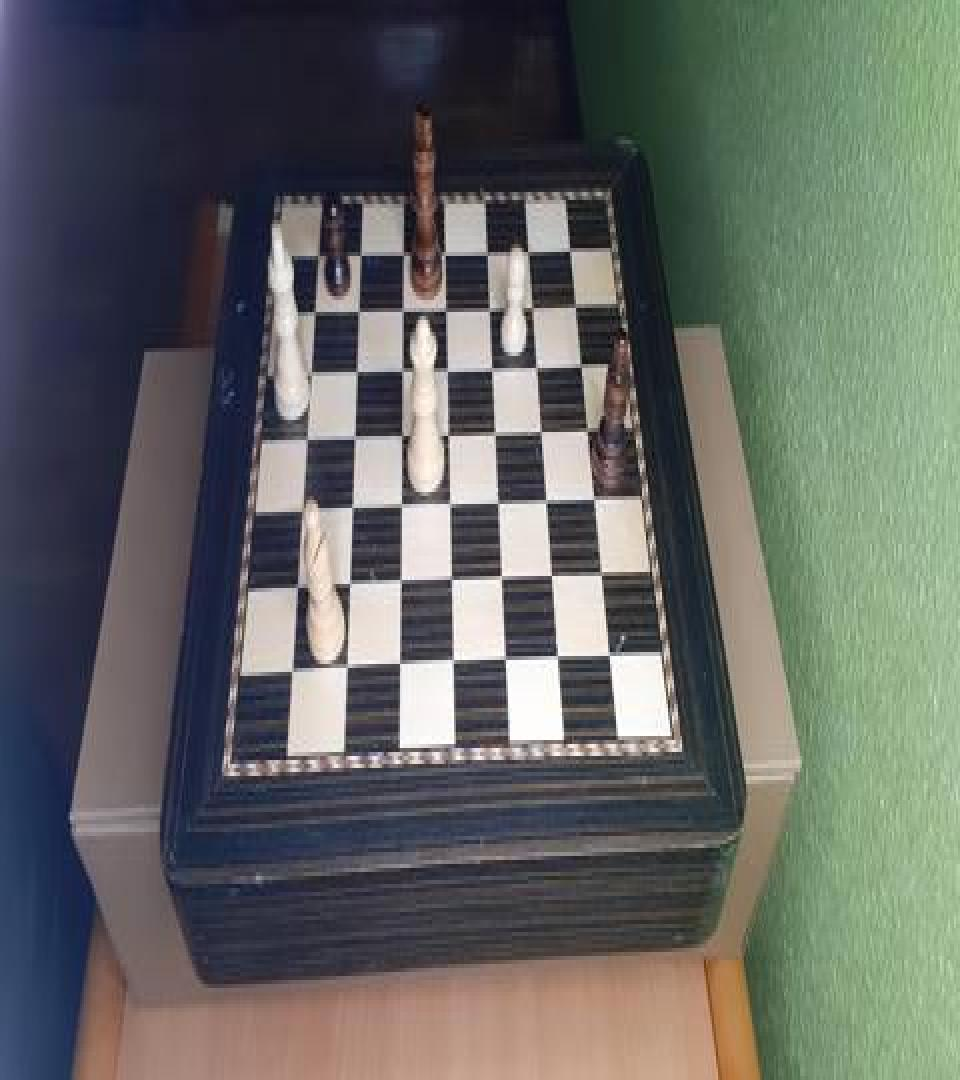xcorner: (312, 236, 324, 260), (308, 294, 320, 318), (304, 358, 316, 382), (300, 424, 312, 448), (295, 498, 307, 522), (290, 576, 302, 600), (284, 664, 296, 688), (355, 236, 367, 260), (353, 294, 365, 318), (351, 356, 363, 380), (348, 422, 360, 446), (346, 496, 358, 520), (343, 574, 355, 598), (339, 660, 351, 684), (398, 236, 410, 260), (398, 292, 410, 316), (397, 354, 409, 378), (396, 422, 408, 446), (396, 494, 408, 518), (395, 572, 407, 596), (394, 658, 406, 682), (441, 234, 453, 258), (442, 292, 454, 316), (443, 354, 455, 378), (444, 420, 456, 444), (445, 492, 457, 516), (447, 570, 459, 594), (448, 656, 460, 680), (483, 234, 495, 258), (486, 292, 498, 316), (489, 352, 501, 376), (492, 418, 504, 442), (495, 490, 507, 514), (498, 568, 510, 592), (502, 652, 514, 676), (525, 234, 537, 258), (529, 290, 541, 314), (534, 352, 546, 376), (538, 418, 550, 442), (544, 488, 556, 512), (549, 566, 561, 590), (555, 650, 567, 674), (567, 232, 579, 256), (573, 290, 585, 314), (579, 350, 591, 374), (585, 416, 597, 440), (592, 486, 604, 510), (599, 564, 611, 588), (608, 646, 620, 670)
